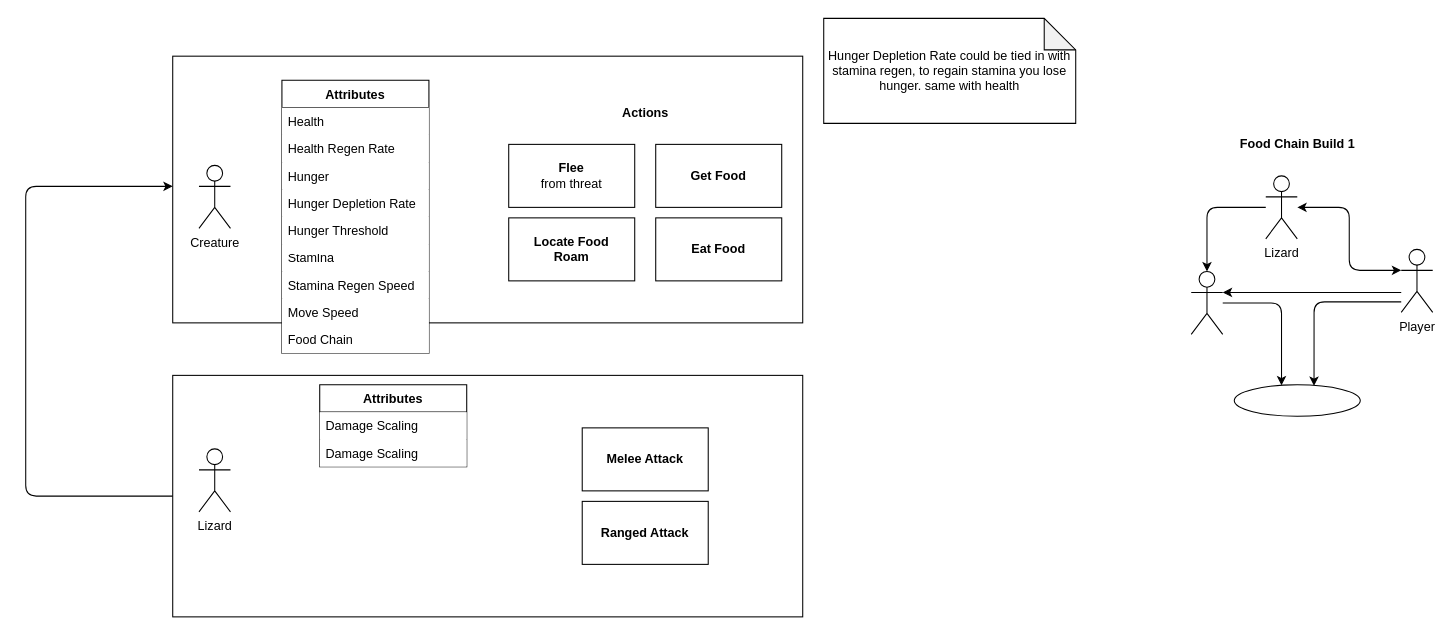
Image size: 1453x635. Some labels were removed from this diagram. Here are the shapes that lost their labels. From the top down, the centre of each, then its label:
pixel 1206 302: Fly
pixel 1296 400: Health Plant
